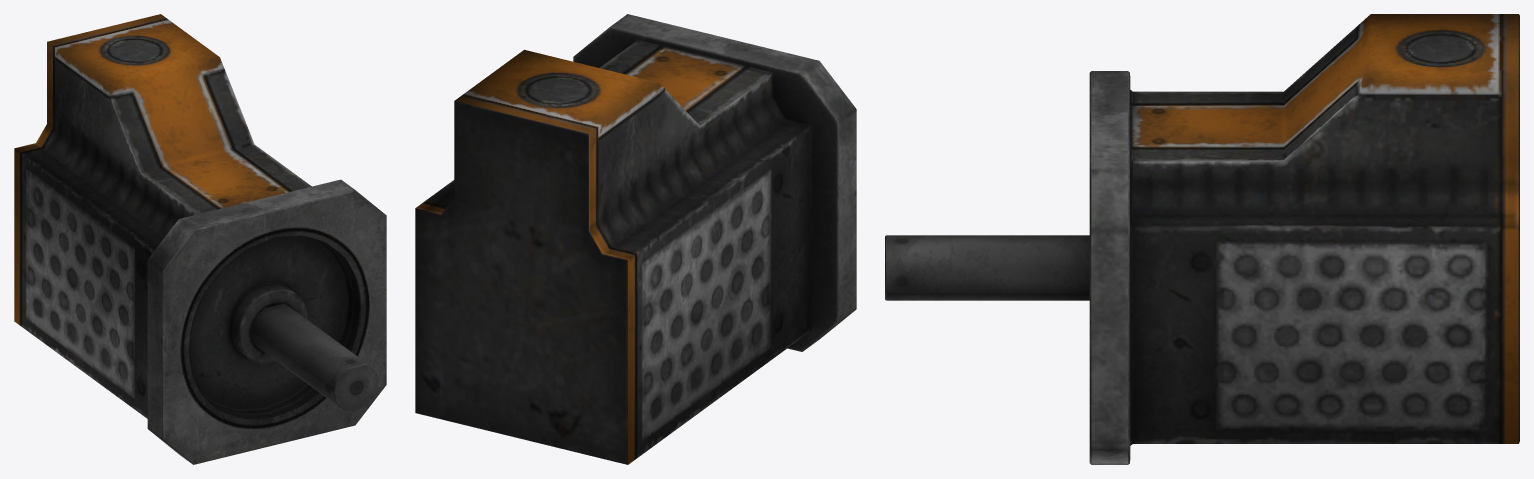
Rendered from servo.dae.
3 renders of one model, left to right at view 1: azimuth 30°, elevation 25°; view 2: azimuth 150°, elevation 25°; view 3: azimuth 270°, elevation 25°, orthographic. The views are drawn at different scales.
Parts seen in each view (by area): view 1: polySurface44; view 2: polySurface44; view 3: polySurface44.
Part boxes in pixels (box(x1,y1,x2,y2)): polySurface44: box(14, 14, 386, 464); polySurface44: box(415, 14, 856, 464); polySurface44: box(885, 14, 1519, 464).
Size of the model in its own units: 0.1533 by 0.1909 by 0.2996.
